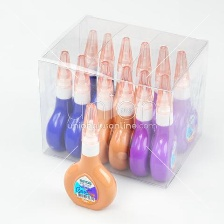book: (34, 12, 212, 192)
correction_fluid: (59, 100, 118, 213), (143, 43, 182, 149), (61, 53, 99, 160), (69, 27, 105, 132), (86, 59, 121, 166), (43, 48, 78, 155), (125, 38, 160, 143), (146, 73, 179, 182), (105, 65, 138, 174), (167, 48, 200, 155), (125, 69, 156, 179), (89, 30, 121, 135), (109, 34, 137, 139)
